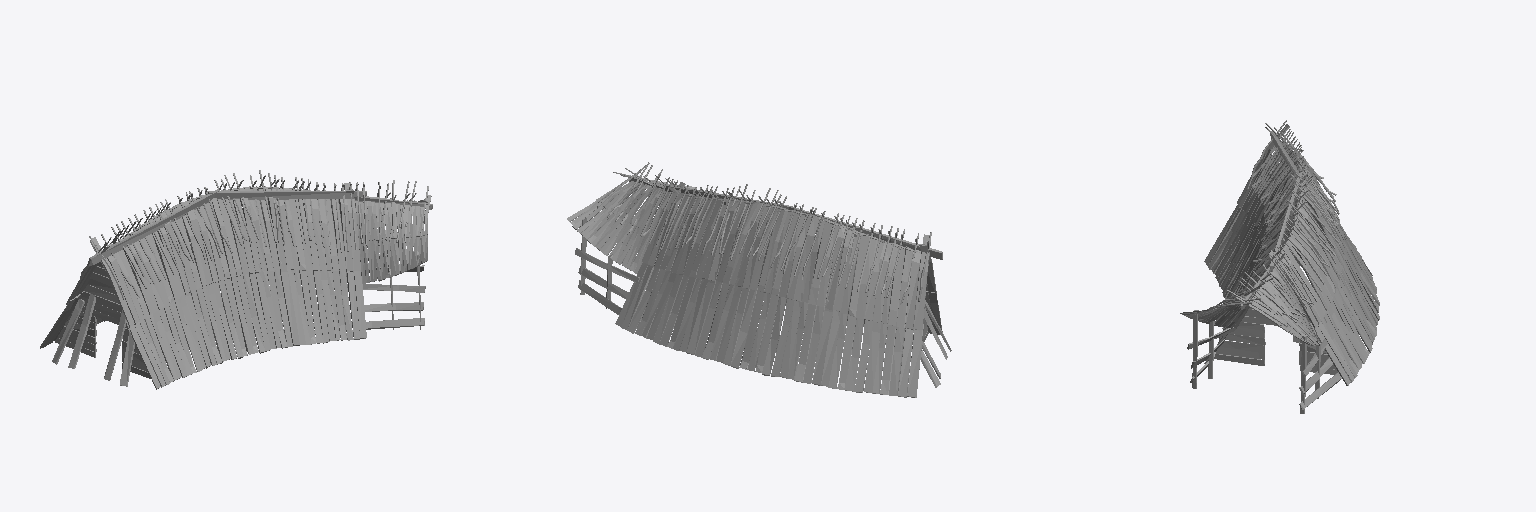
File: LOD1_viking_eagle_hut.obj
3 renders of one model, left to right at view 1: azimuth 30°, elevation 25°; view 2: azimuth 150°, elevation 25°; view 3: azimuth 270°, elevation 25°, orthographic.
Parts seen in each view (by area): view 1: Cube.002_Cube.003; view 2: Cube.002_Cube.003; view 3: Cube.002_Cube.003.
Part boxes in pixels (x1,y1,x2,y2): Cube.002_Cube.003: (40, 170, 432, 389); Cube.002_Cube.003: (567, 162, 951, 397); Cube.002_Cube.003: (1180, 120, 1379, 413).
Bounding box in the file's own units: 28.79 × 10.89 × 13.38.